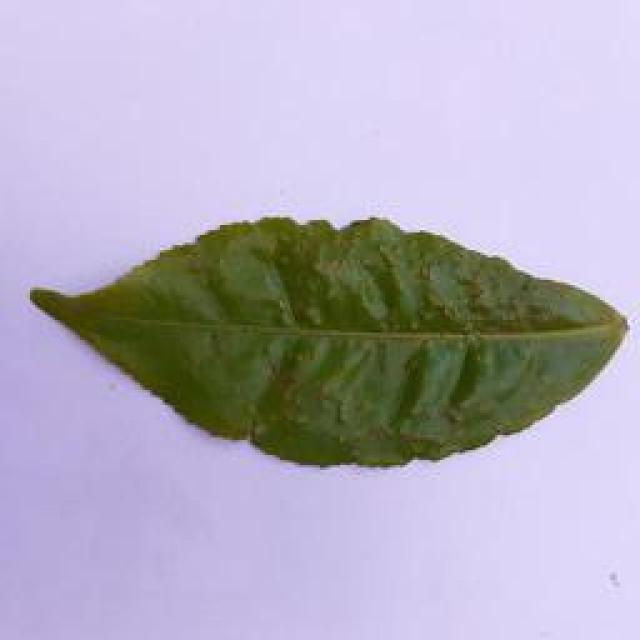Helopeltis: (17, 200, 624, 477)
